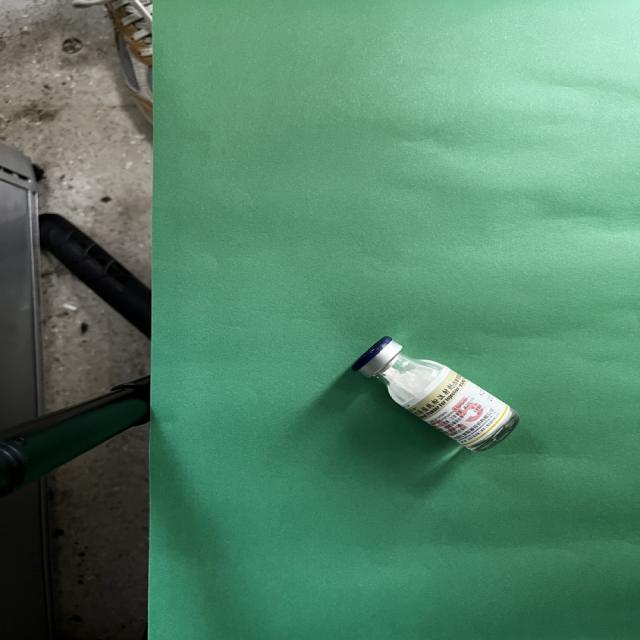Vials: (351, 336, 519, 452)
